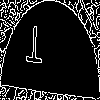T: (25, 25, 43, 73)
